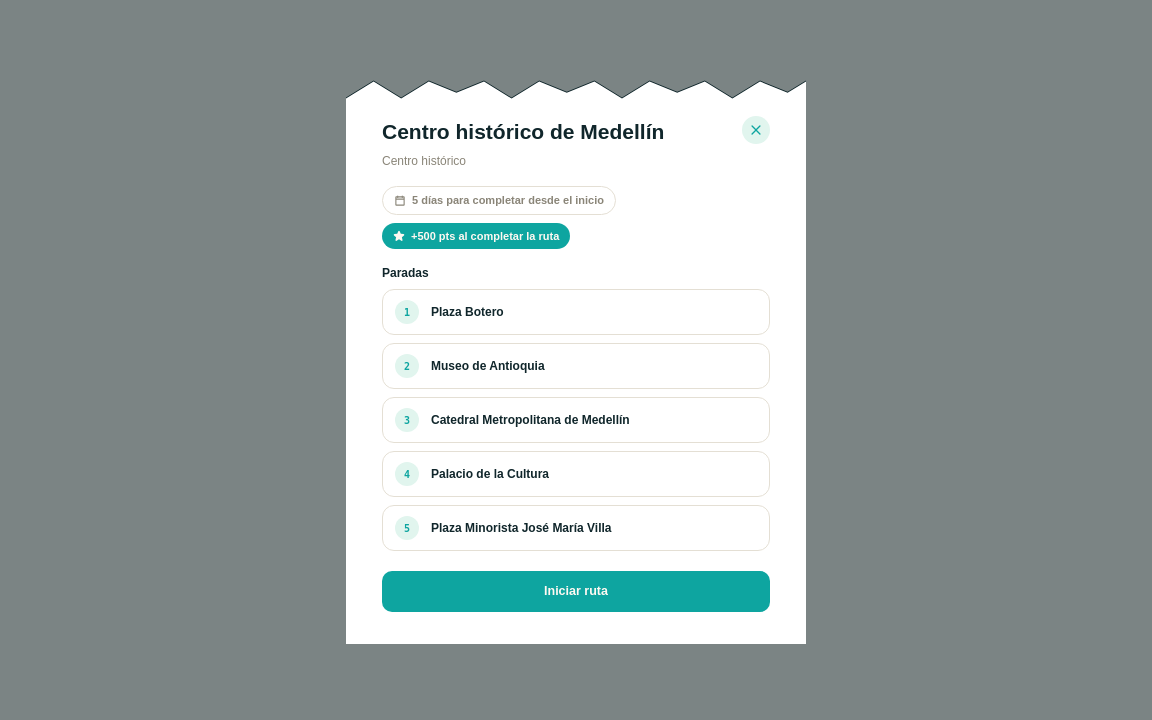
Test: RouteDetailModal — stop tap › shows an error state (not a blank screen) when the place fetch fails
This screenshot has width=1152, height=720.
Step 1. Click the text "Plaza Botero" → (467, 312), box top-left (431, 304), bottom-right (504, 320)
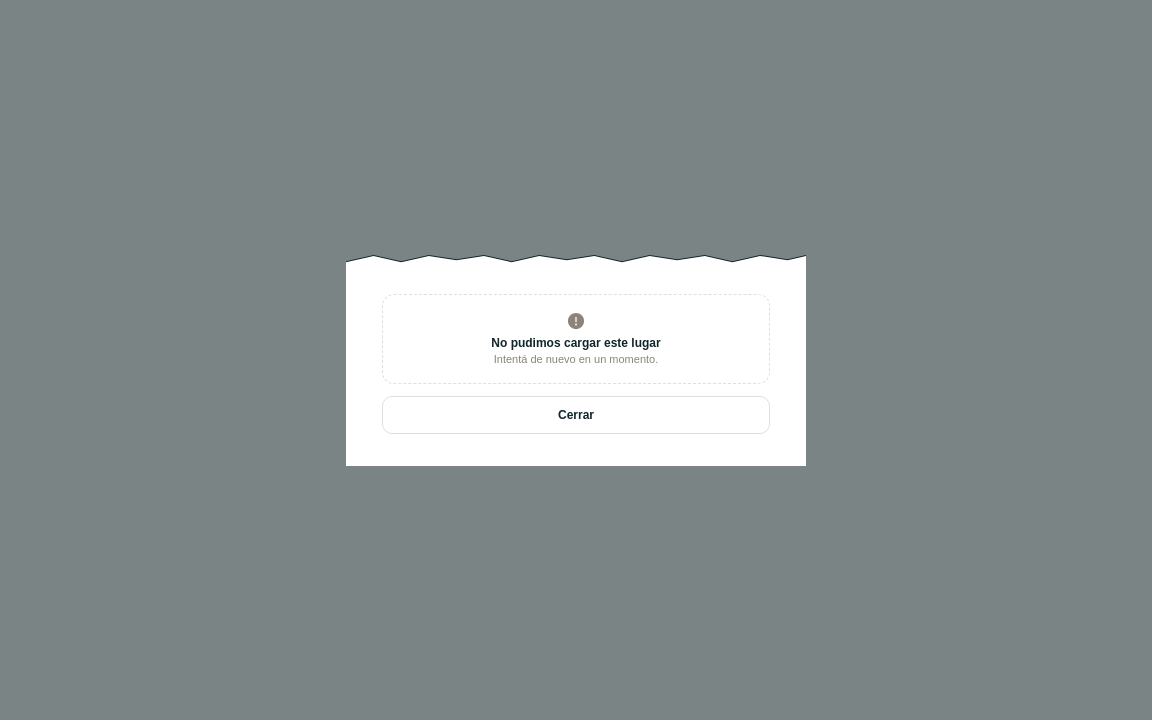
Check: the element with test id "route-stop-detail-error" is shown, box top-left (382, 294), bottom-right (770, 434)
